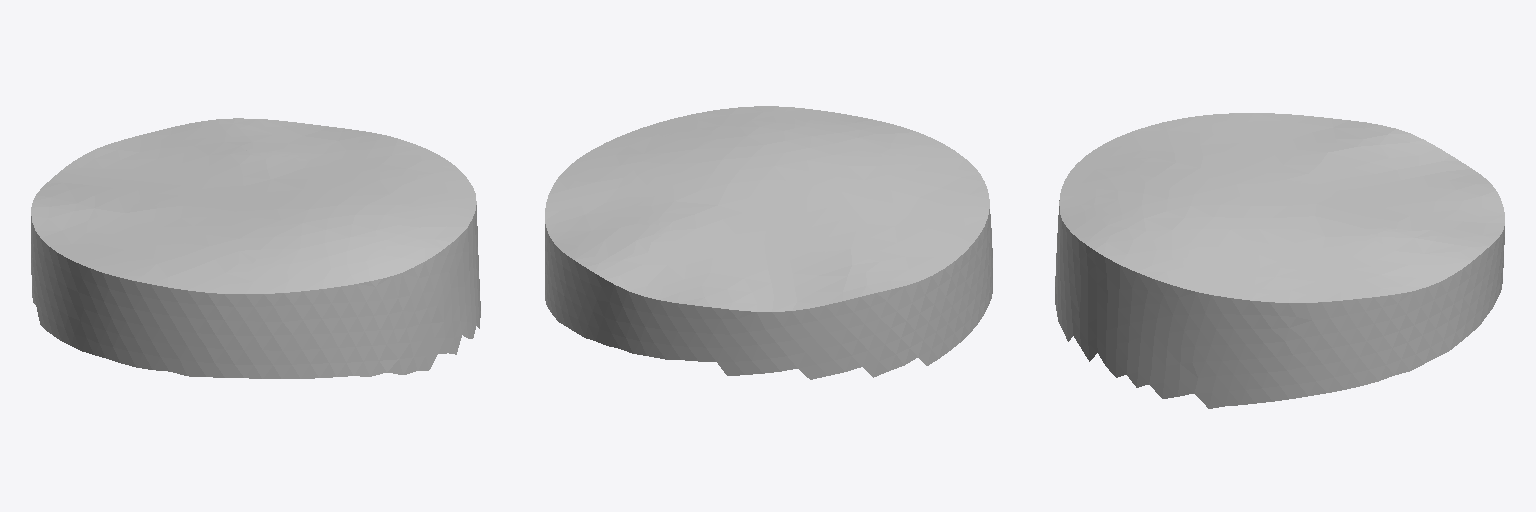
File: new_new_bad_shaped_mesh_filtered.obj
3 renders of one model, left to right at view 1: azimuth 30°, elevation 25°; view 2: azimuth 150°, elevation 25°; view 3: azimuth 270°, elevation 25°, orthographic.
Size of the model in its own units: 14.03 by 4.41 by 14.13.